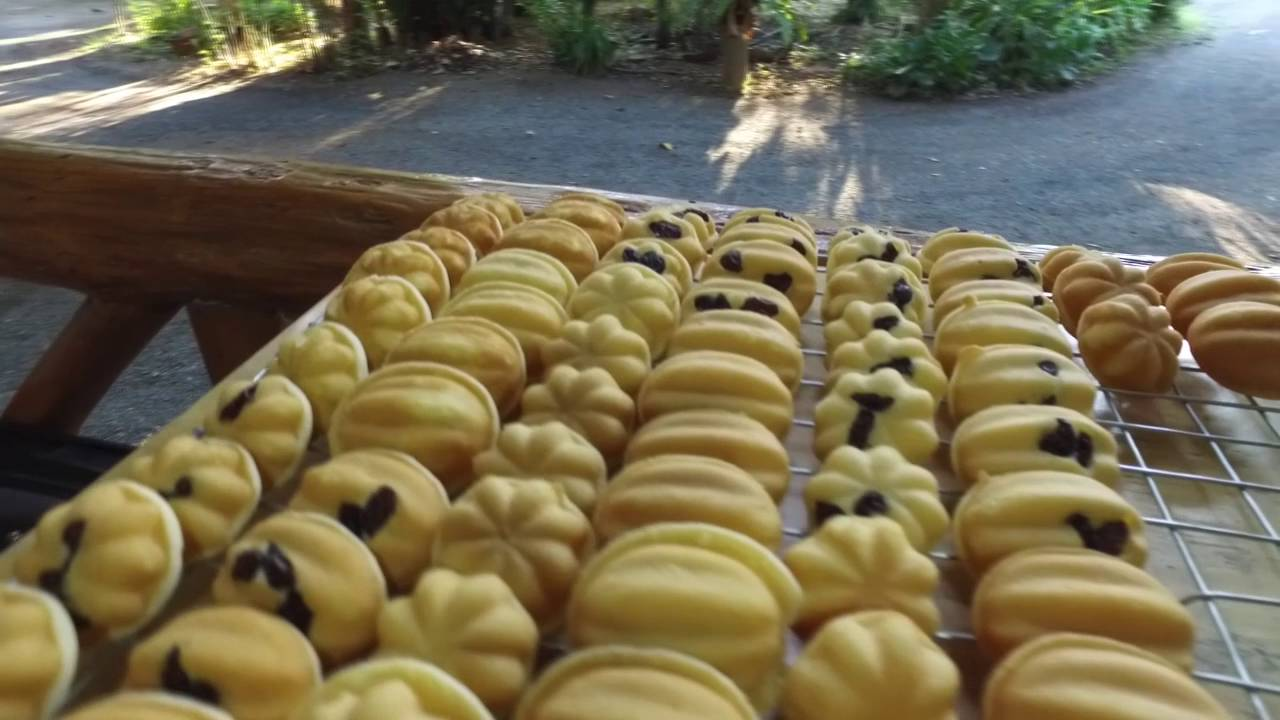kanomkai: (971, 535, 1207, 687), (322, 361, 506, 507), (800, 362, 959, 488), (1072, 288, 1193, 402), (567, 261, 684, 358)
